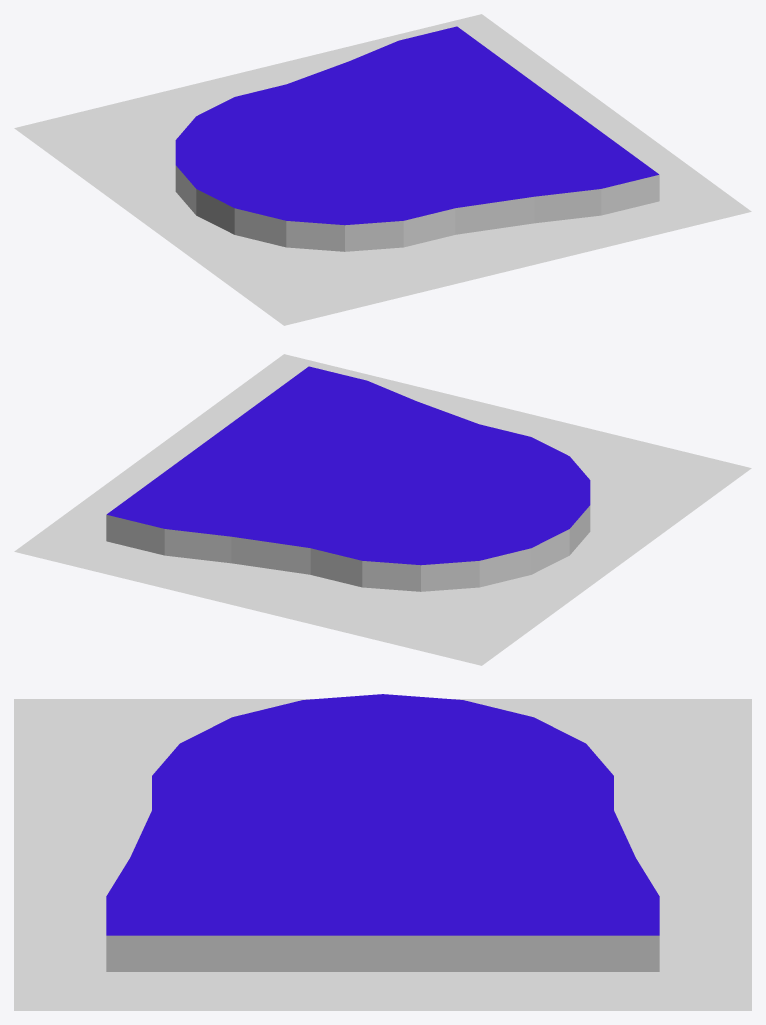
File: AndGate.fbx
The picture shows the model from 3 angles, top to bottom: view 1: azimuth 30°, elevation 25°; view 2: azimuth 150°, elevation 25°; view 3: azimuth 270°, elevation 25°; orthographic projection. The views are drawn at different scales.
Parts seen in each view (by area): view 1: AndGate; view 2: AndGate; view 3: AndGate.
Boxes of the visible parts, box(x1,y1,x2,y2) form: AndGate: box(14, 14, 751, 325); AndGate: box(14, 354, 751, 665); AndGate: box(14, 694, 751, 1010).
Size of the model in its own units: 200 by 10.89 by 200.
